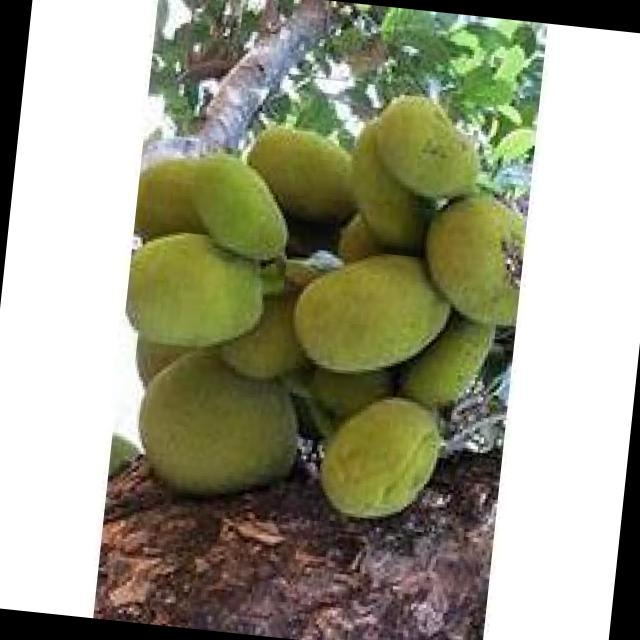Fruit: (258, 220, 504, 408), (115, 328, 322, 526), (298, 375, 465, 544)
